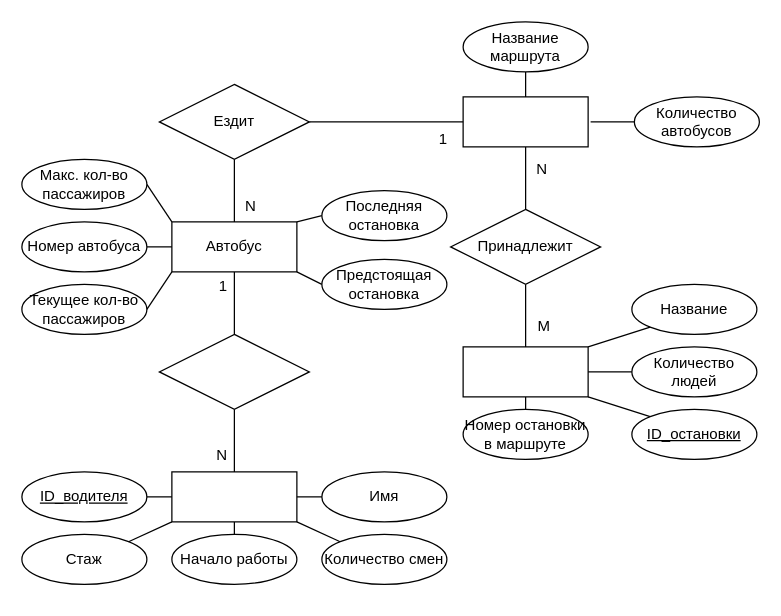
Image size: 781x616. Some labels were removed from this diagram. Each missing label, with the box of its shape:
Водит: (158, 333, 309, 409)
Водитель: (171, 471, 297, 522)
Маршрут: (462, 96, 588, 147)
Остановка: (462, 346, 588, 397)
